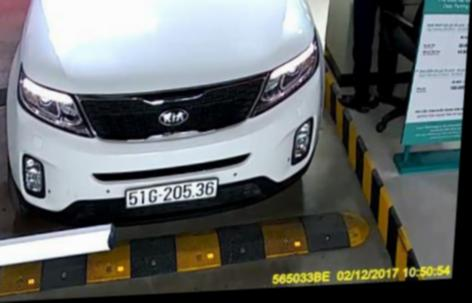License_Plate: (122, 178, 218, 209)
